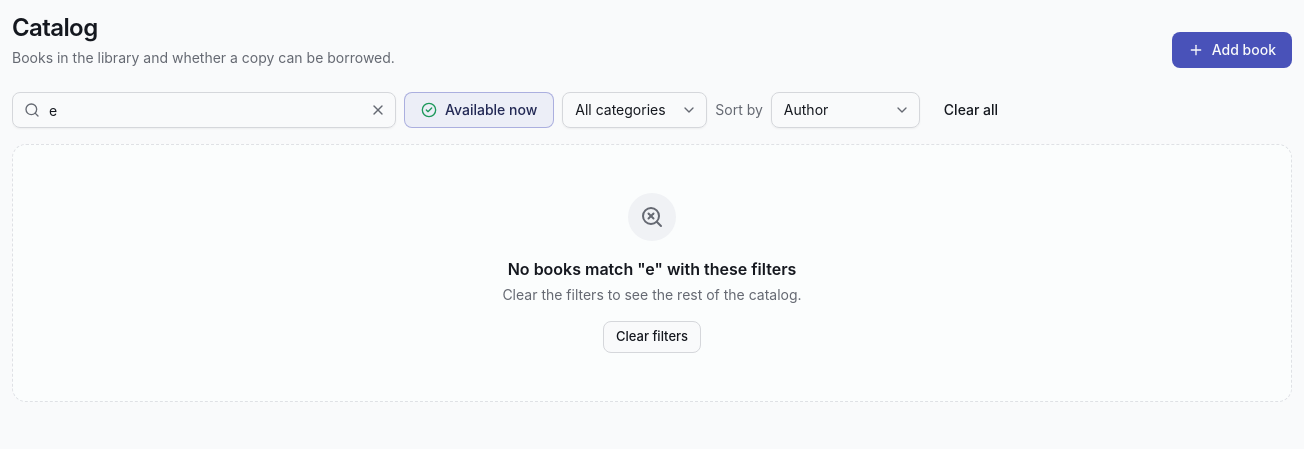
it: CatalogPage › shows a no-results state for the filters, and clears only the filters
Expected: the heading "No books match \"e\" with these filters" is shown, x1=502 y1=257 x2=802 y2=281
Click the button "Clear filters" at point(652, 337), box x1=603 y1=321 x2=701 y2=353
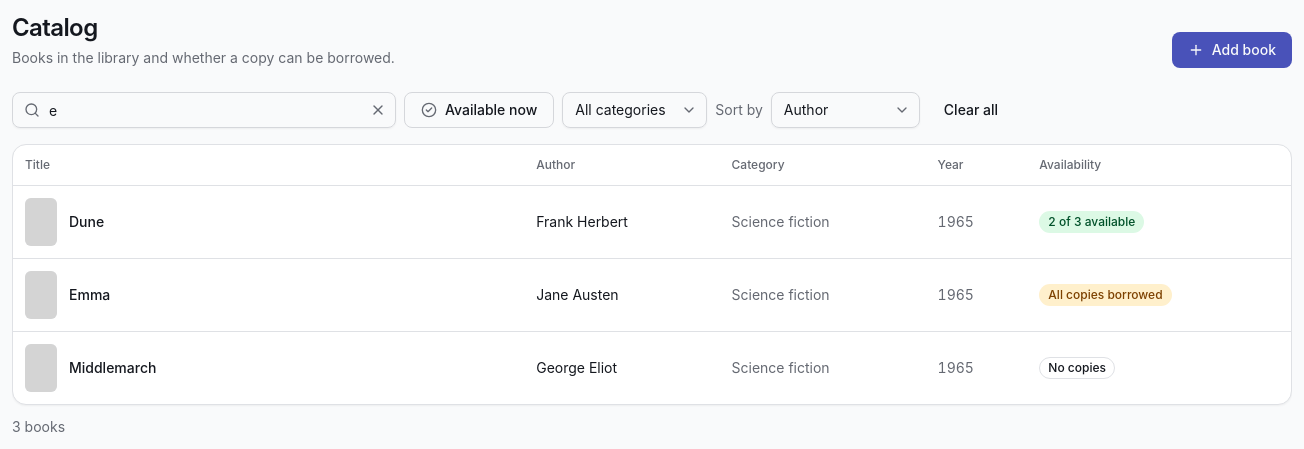
Expected: the link "Dune" is shown, x1=69 y1=212 x2=104 y2=232
